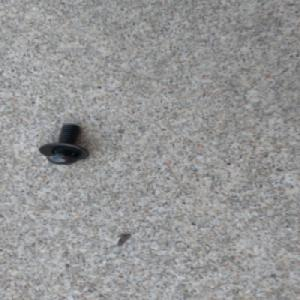BoltWasher: (36, 122, 92, 166)
